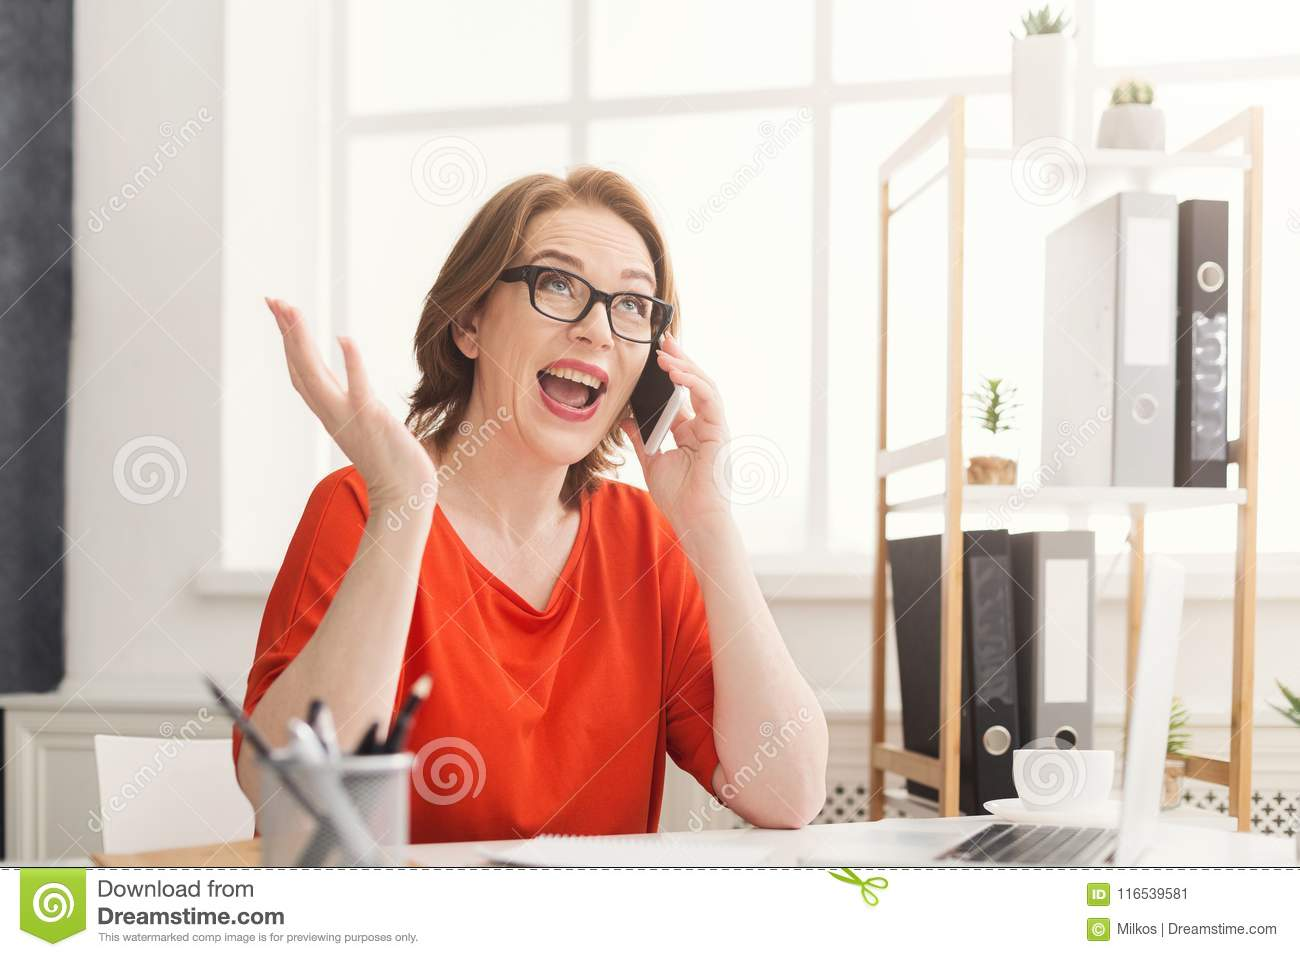phone: (625, 341, 690, 459)
talk: (503, 239, 734, 553)
